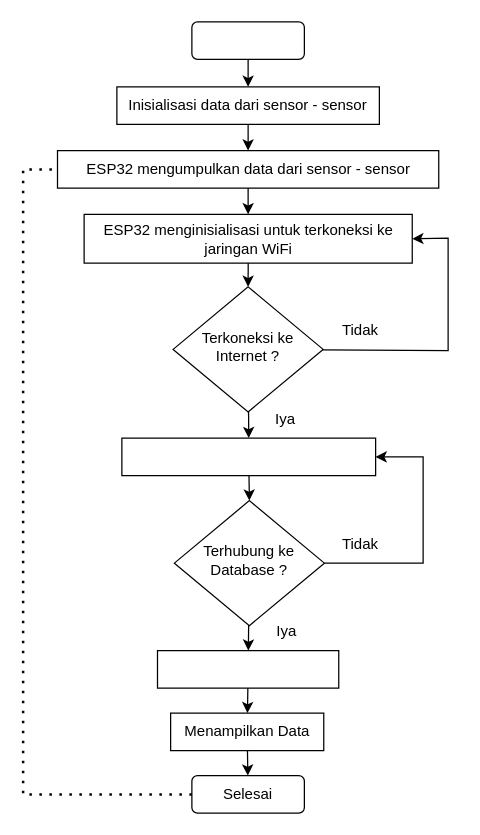
Image size: 480x835. Some labels were removed from this diagram. The centre of each missing label's shape, as x and y in pixels:
"Memasukkan data ke Database" goes at (248,456).
"Memperbaharui Data" goes at (247,668).
"Mulai" goes at (247,40).
